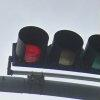traffic lights: (10, 25, 100, 76)
